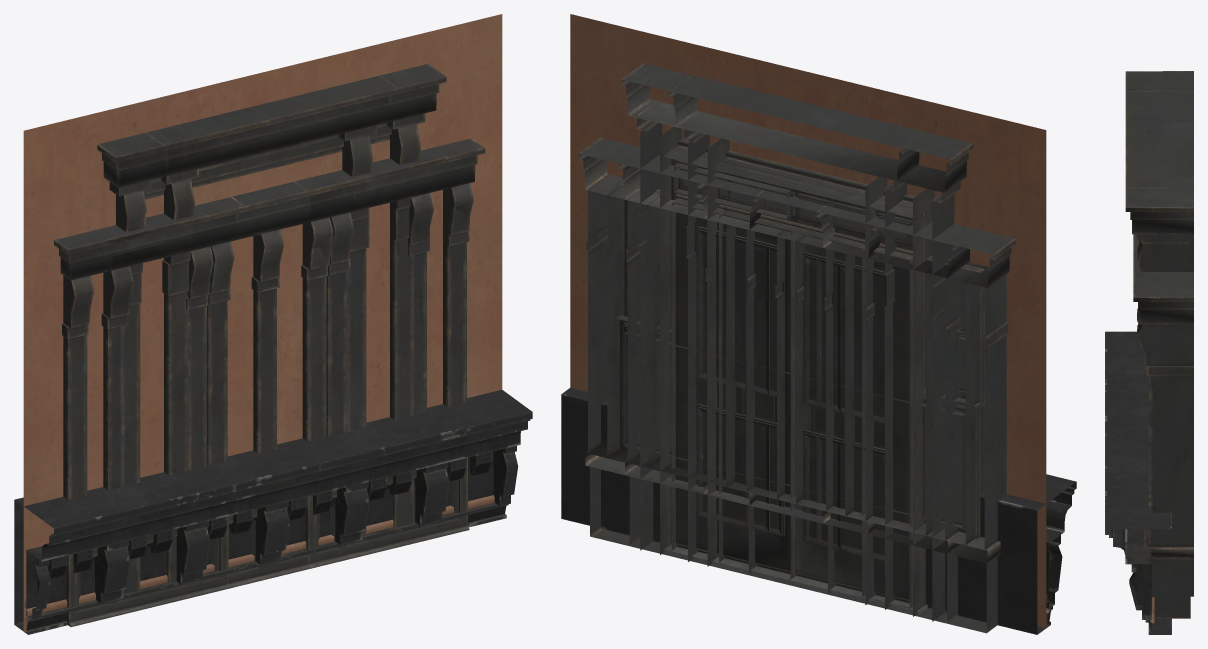
File: kit_apartments.glb
The picture shows the model from 3 angles, left to right: view 1: azimuth 30°, elevation 25°; view 2: azimuth 150°, elevation 25°; view 3: azimuth 270°, elevation 25°; orthographic projection. The views are drawn at different scales.
Parts seen in each view (by area): view 1: crown_standard_standard_01, wall_door_centered_large_01, door_centered_large_01, wall_door_centered_small_01, door_centered_small_01, window_centered_double_01, window_centered_large_02, window_centered_double_02, window_offset_small_03, window_centered_small_02, wall_window_centered_double_02, wall_window_centered_large_01 (+11 smaller); view 2: door_centered_large_01, wall_window_centered_large_01, door_centered_small_01, window_centered_double_02, door_centered_small_02, wall_window_centered_large_02, crown_standard_standard_01, window_centered_large_01, window_centered_double_01, wall_window_centered_double_02, window_offset_small_01, window_centered_large_02 (+10 smaller); view 3: crown_standard_standard_01, door_centered_large_01, window_centered_double_02, window_centered_double_01, door_centered_small_01, window_offset_small_03.
Boxes of the visible parts, x1,y1,x2,y2 form: crown_standard_standard_01: [14, 389, 532, 634]; wall_door_centered_large_01: [23, 17, 502, 631]; door_centered_large_01: [97, 63, 446, 593]; wall_door_centered_small_01: [23, 14, 502, 584]; door_centered_small_01: [145, 75, 398, 582]; window_centered_double_01: [54, 138, 484, 626]; window_centered_large_02: [101, 158, 445, 535]; window_centered_double_02: [54, 155, 477, 555]; window_offset_small_03: [301, 148, 485, 457]; window_centered_small_02: [186, 194, 355, 509]; wall_window_centered_double_02: [24, 24, 502, 466]; wall_window_centered_large_01: [23, 38, 502, 417]; door_centered_large_01: [621, 63, 973, 621]; wall_window_centered_large_01: [570, 14, 1046, 627]; door_centered_small_01: [669, 75, 924, 609]; window_centered_double_02: [583, 156, 1015, 563]; door_centered_small_02: [712, 202, 865, 599]; wall_window_centered_large_02: [570, 21, 1046, 619]; crown_standard_standard_01: [561, 387, 1076, 634]; window_centered_large_01: [621, 164, 969, 623]; window_centered_double_01: [578, 137, 1015, 633]; wall_window_centered_double_02: [570, 23, 1046, 621]; window_offset_small_01: [583, 159, 751, 570]; window_centered_large_02: [618, 163, 969, 551]; crown_standard_standard_01: [1105, 331, 1171, 634]; door_centered_large_01: [1125, 71, 1193, 596]; window_centered_double_02: [1137, 315, 1193, 558]; window_centered_double_01: [1133, 234, 1193, 618]; door_centered_small_01: [1125, 91, 1193, 245]; window_offset_small_03: [1133, 297, 1193, 547].
Bounding box in the file's own units: 3 × 3 × 0.57.
Materials: 5 (5 with a texture image).
